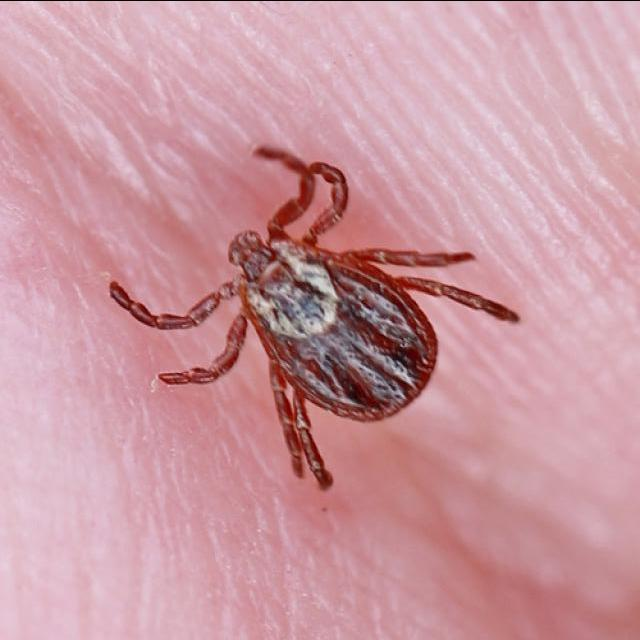Dermacentor Reticulatus-F: (110, 147, 519, 490)
